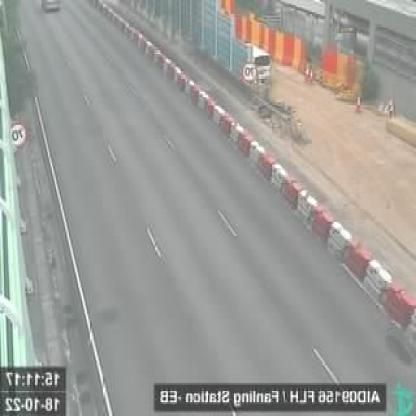Car: (40, 0, 61, 12)
